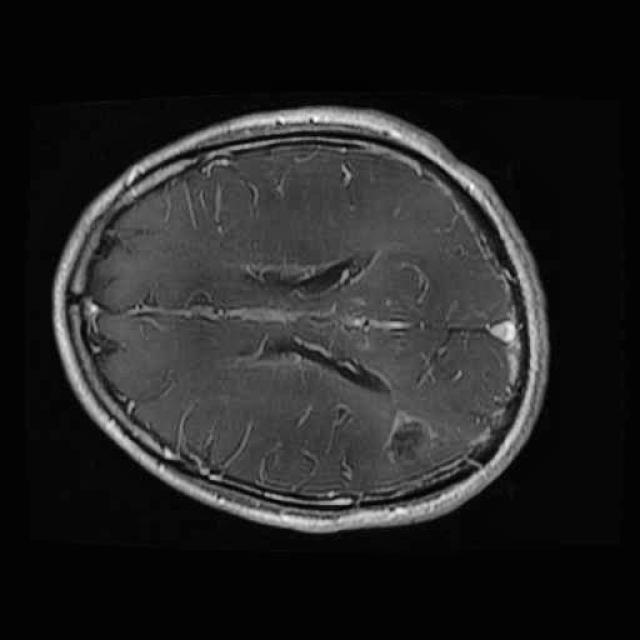Tumor: (370, 401, 451, 482)
